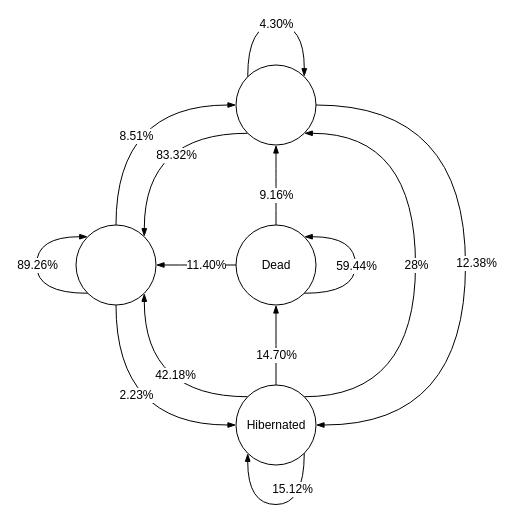
Image size: 514x522. Some labels were removed from this diagram. The shapes that lost their labels are listed below. From the top down, each one's centre as x and y in pixels, then its label:
At point (275, 104): "Sleeping".
At point (115, 264): "Active".
